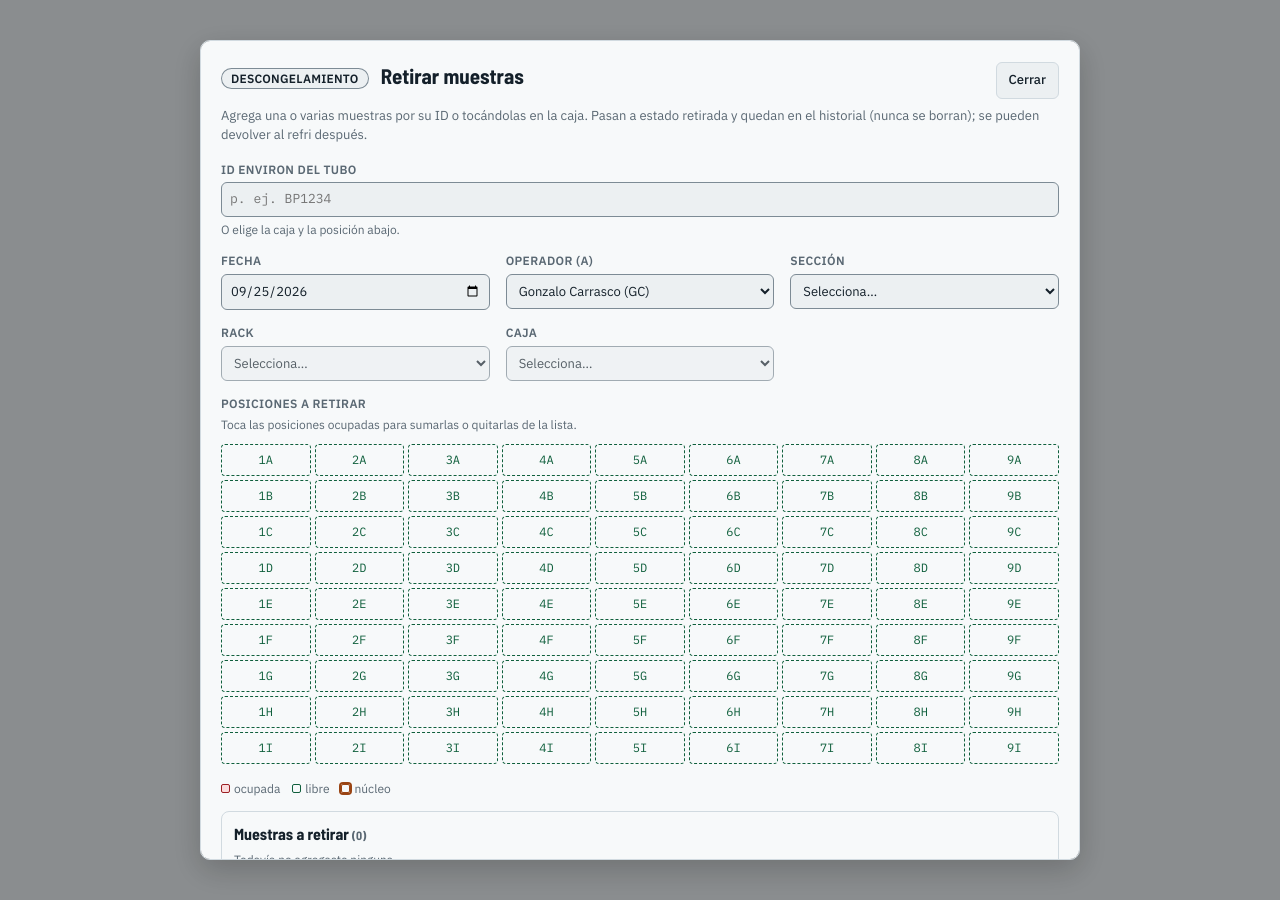
ThawForm · partir por el ID del tubo (F2) › elegir la muestra por su ID rellena sección, rack, caja y posición
Type "BP009" into the field labelled "ID Environ del tubo".
click(640, 199); type("BP009")  # box [221,182,1059,217]
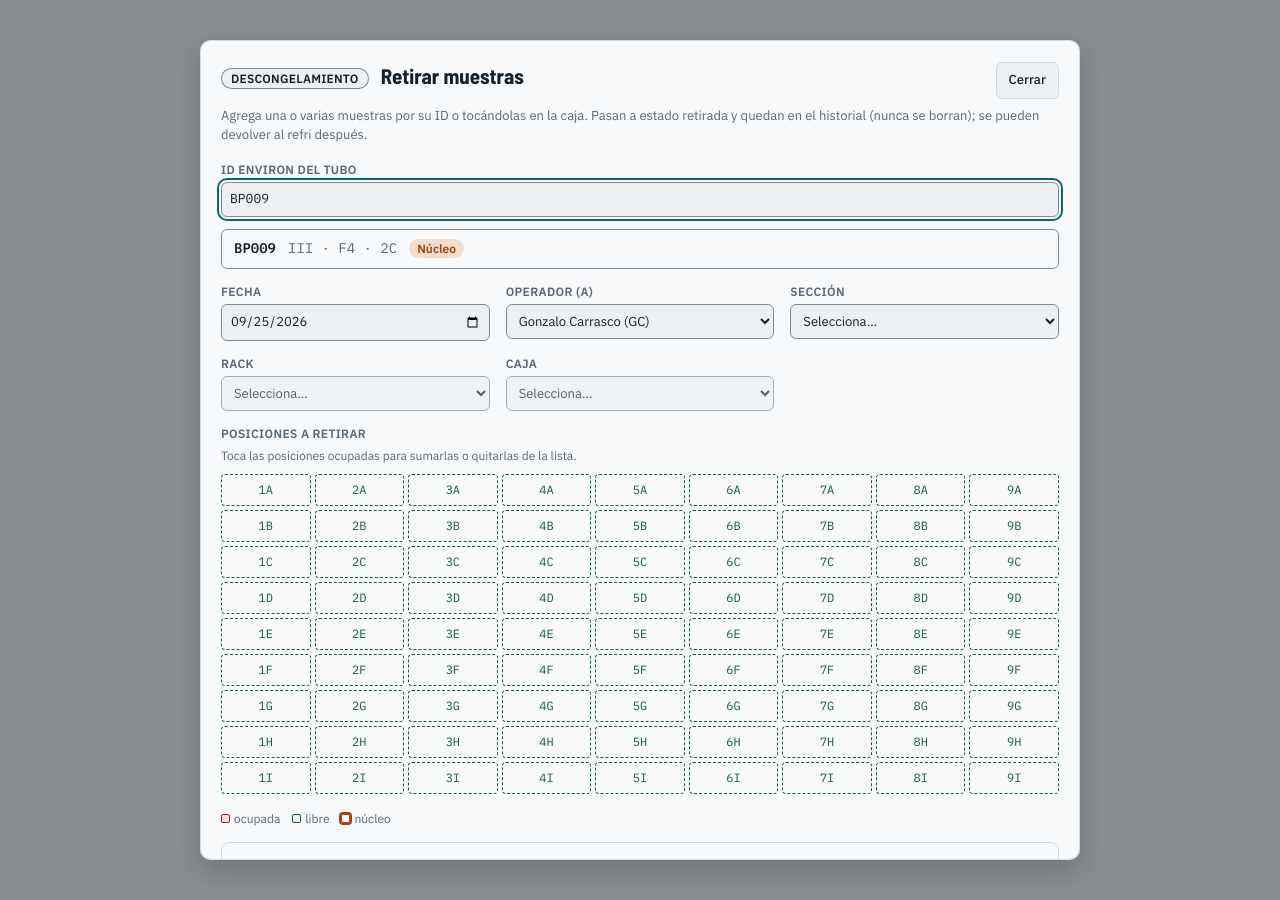
Press Enter
(page scrolled)
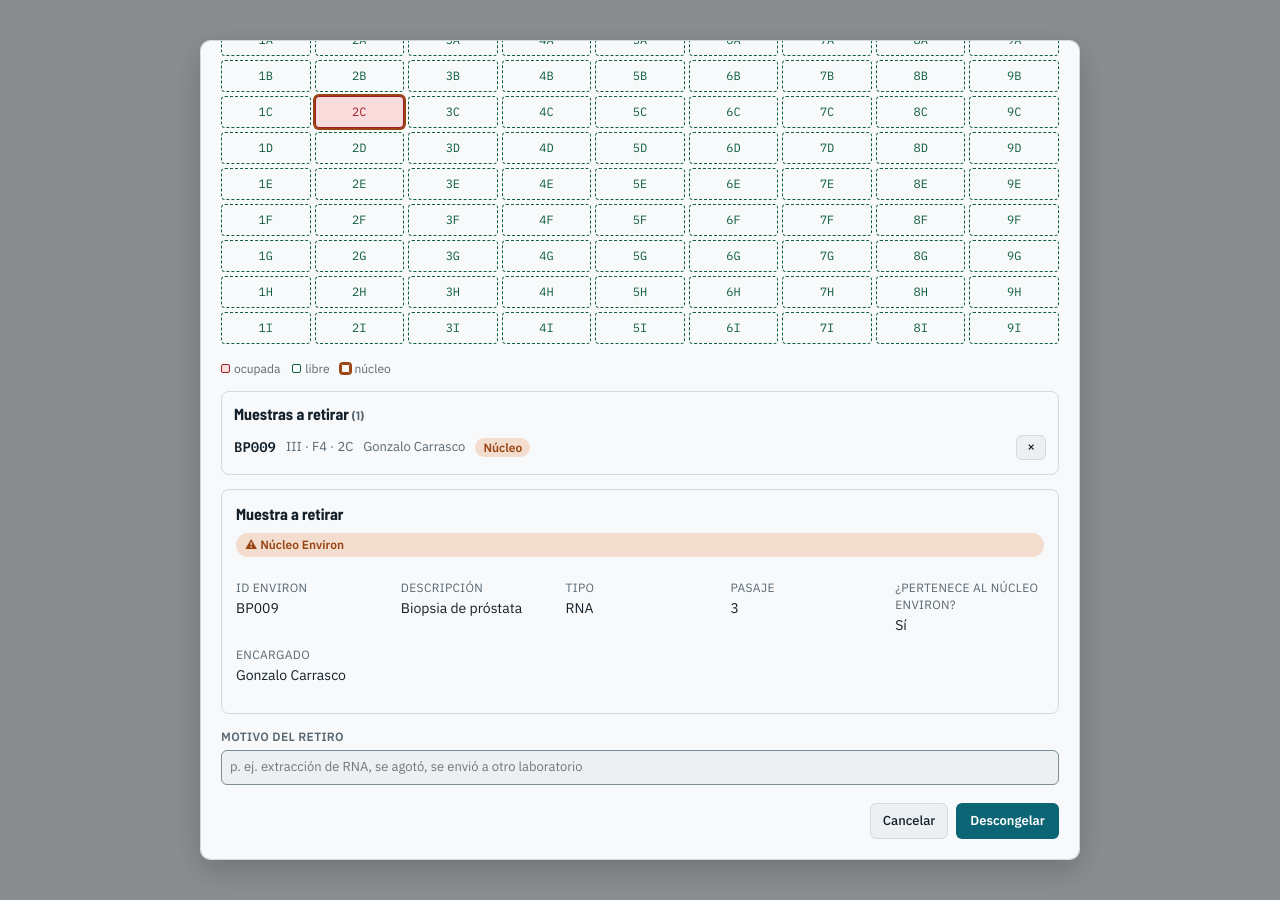
Check: the element "Muestra a retirar" shows "BP009", box [236,599,279,617]
